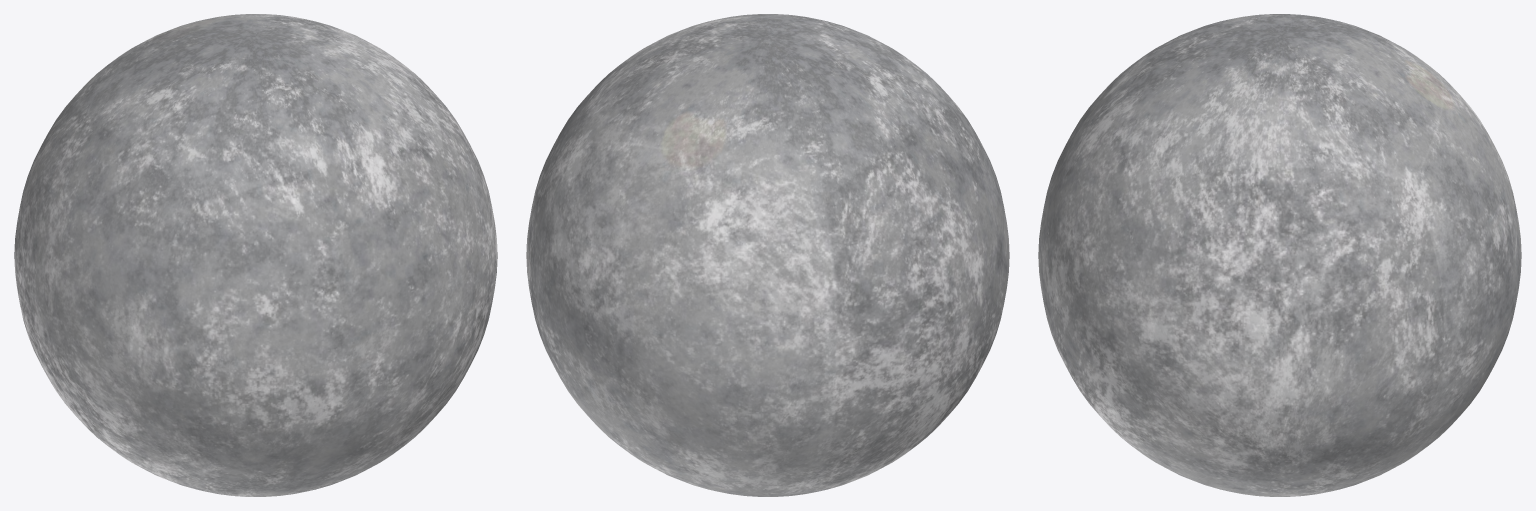
The model's file is gray.glb.
3 views of the same model, side by side, from view 1: azimuth 30°, elevation 25°; view 2: azimuth 150°, elevation 25°; view 3: azimuth 270°, elevation 25° (orthographic).
Parts seen in each view (by area): view 1: Сфера.005; view 2: Сфера.005; view 3: Сфера.005.
Boxes of the visible parts, x1,y1,x2,y2 form: Сфера.005: (14,14,497,496); Сфера.005: (526,14,1009,496); Сфера.005: (1038,14,1521,496).
Bounding box in the file's own units: 1.99 × 2 × 2.
Materials: 1 (1 with a texture image).
